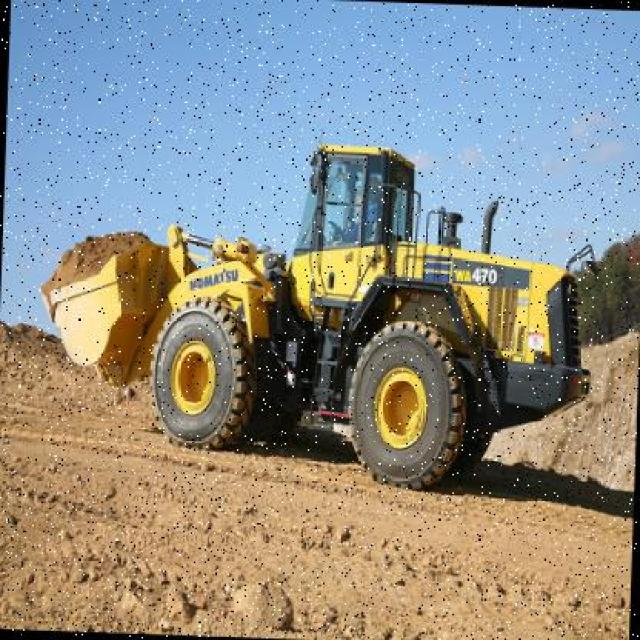buldozerpayloadergrader: (48, 137, 602, 511)
